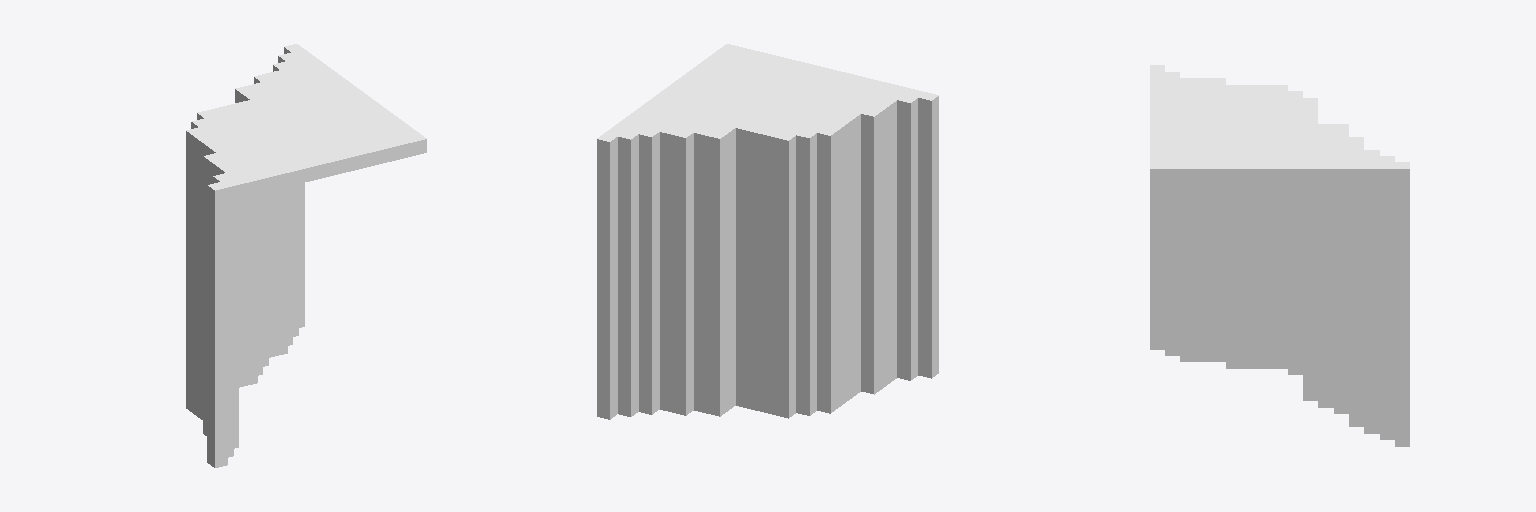
File: island-3.obj
The picture shows the model from 3 angles: view 1: azimuth 30°, elevation 25°; view 2: azimuth 150°, elevation 25°; view 3: azimuth 270°, elevation 25°; orthographic projection.
Visible parts, largest first — view 1: object 1; view 2: object 1; view 3: object 1.
Boxes of the visible parts, x1,y1,x2,y2 form: object 1: [186, 44, 426, 467]; object 1: [597, 44, 938, 419]; object 1: [1150, 65, 1409, 446].
Bounding box in the file's own units: 1.6 × 2 × 1.7.